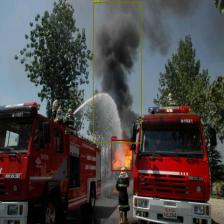fire: (111, 140, 132, 171)
smoke: (93, 2, 141, 143)
